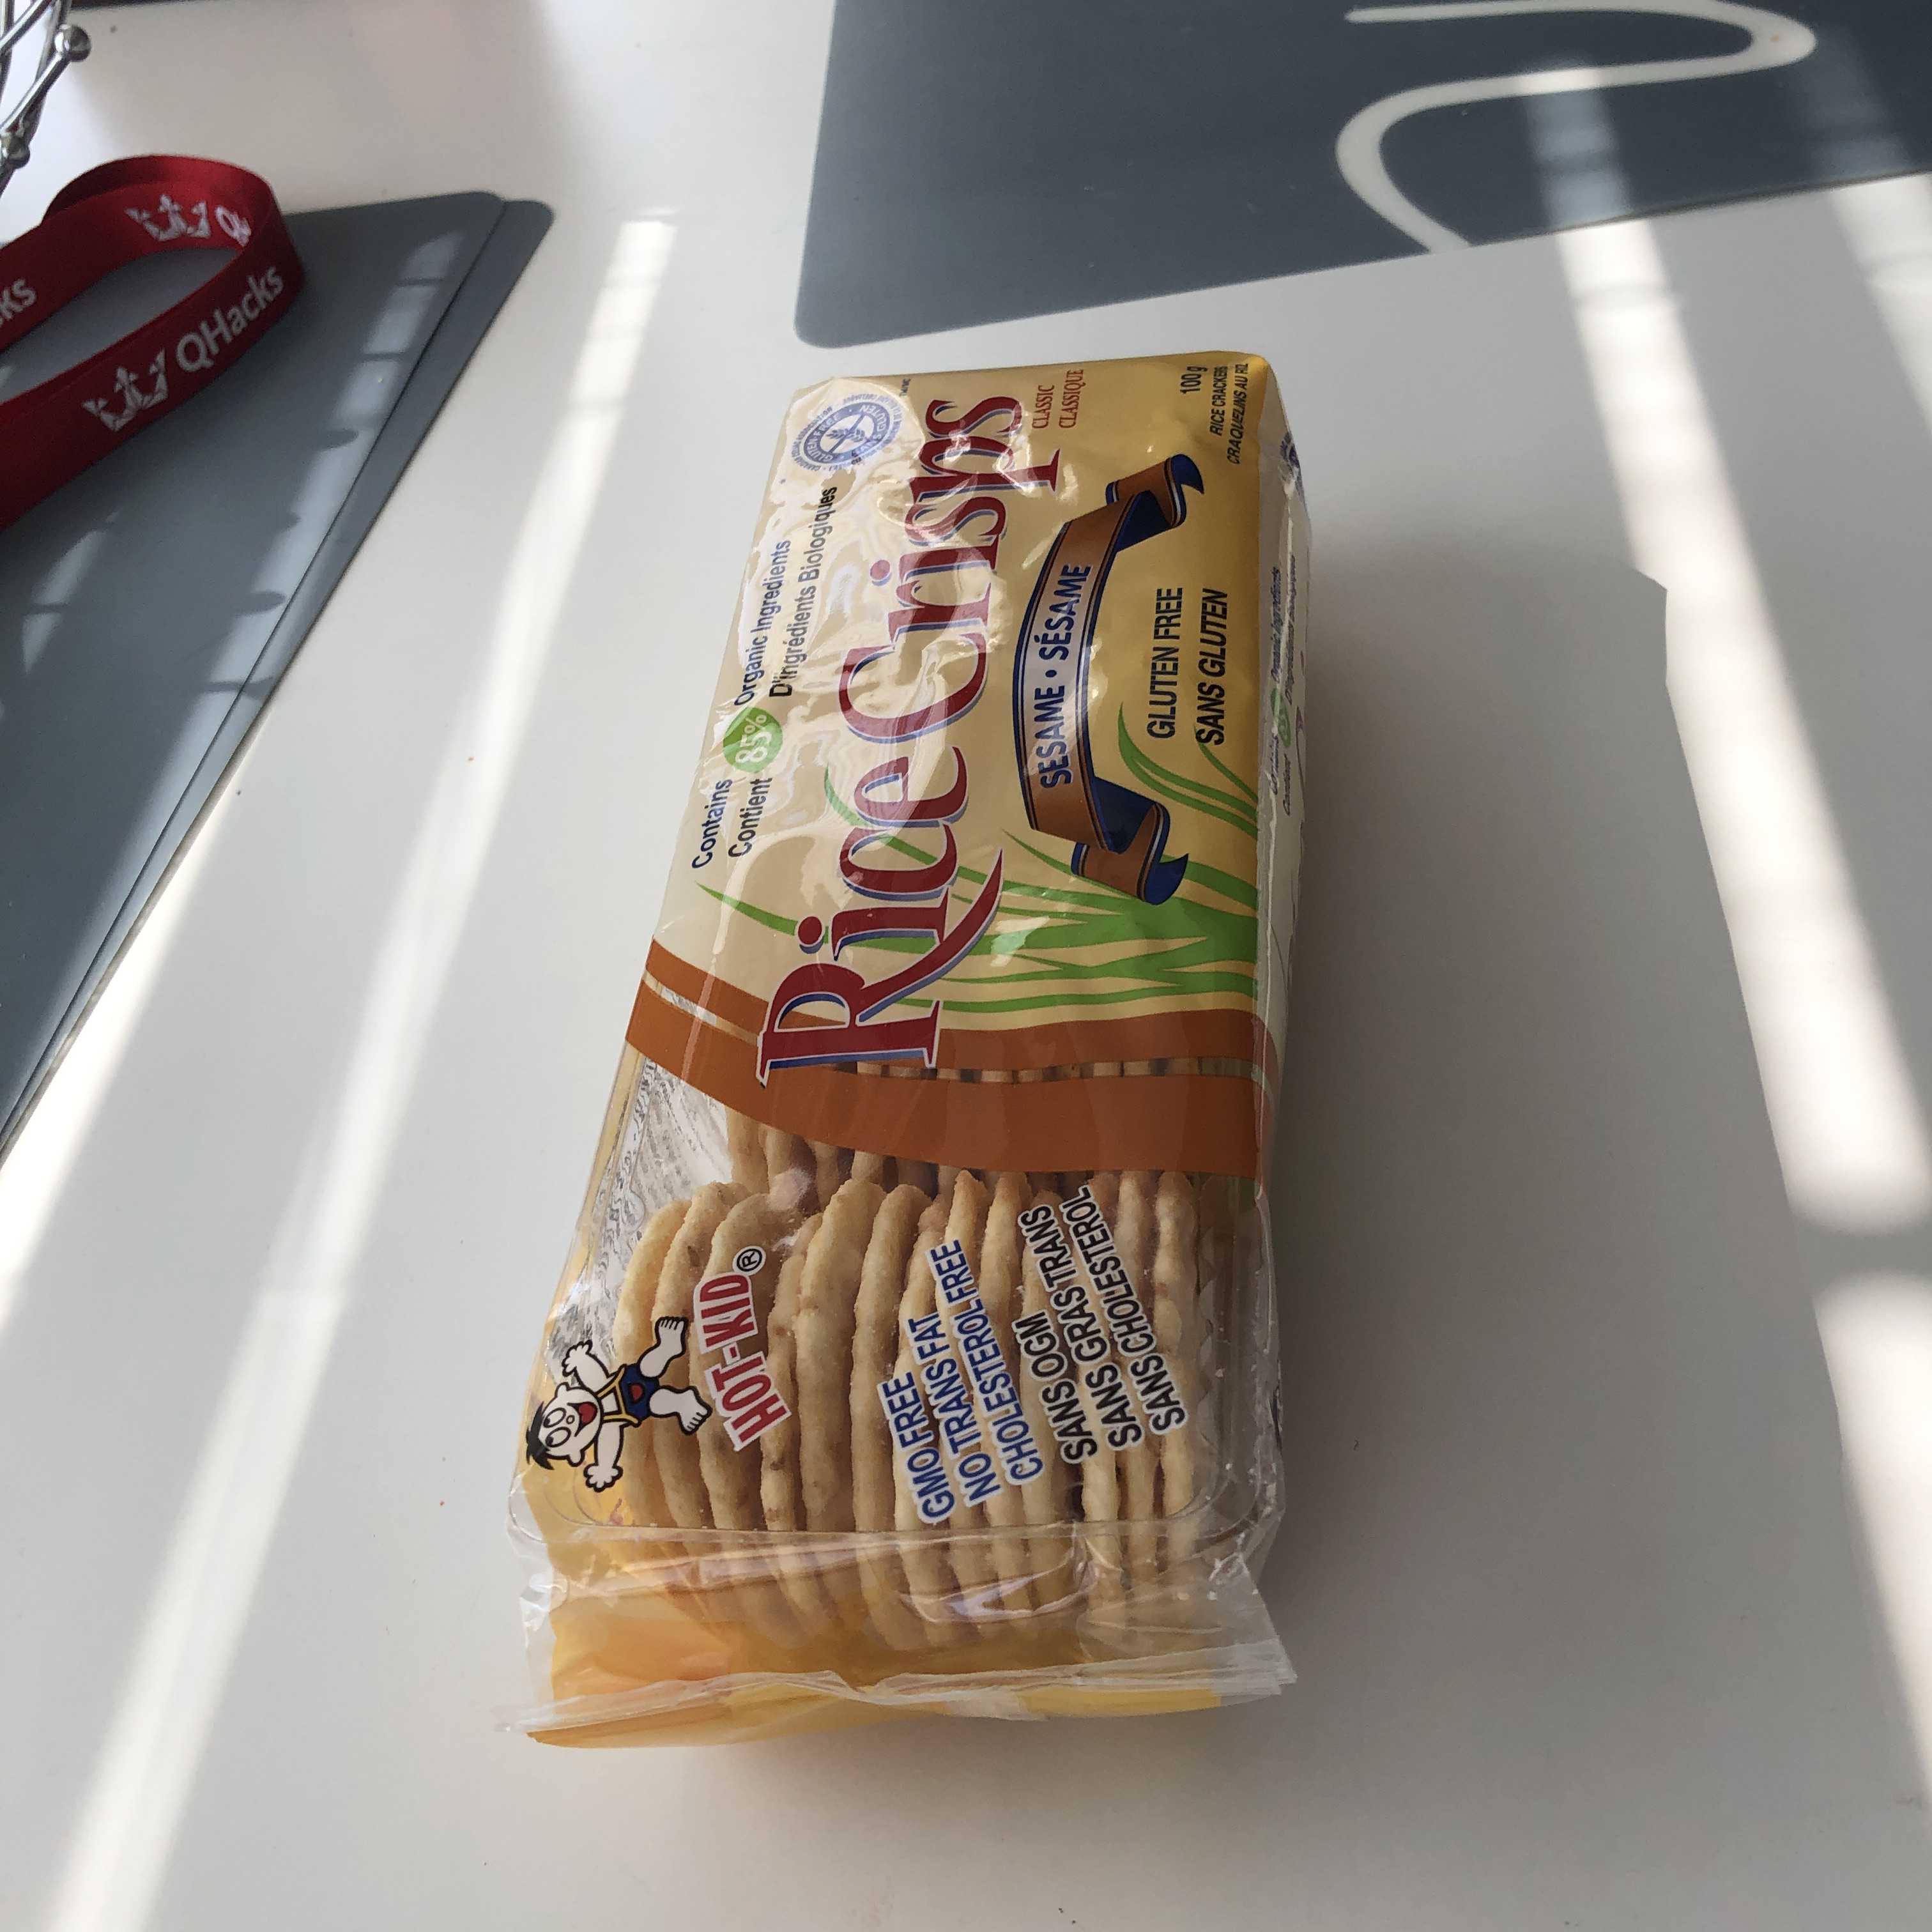hot_kid_rice_crisps_sesame: (358, 670, 1683, 1363)
